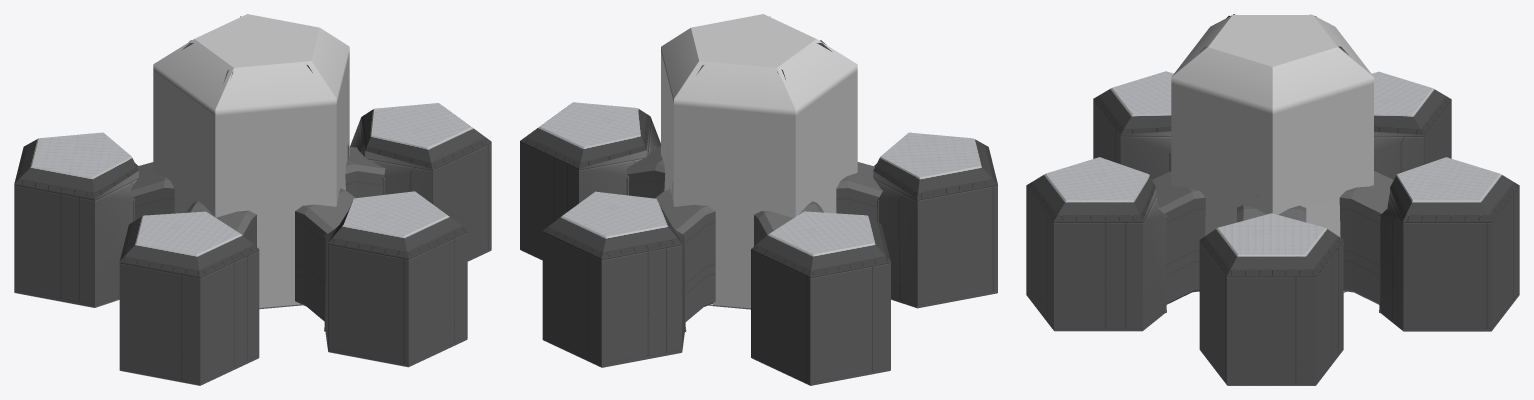
File: MainRoomRevamp.fbx
The picture shows the model from 3 angles, left to right: view 1: azimuth 30°, elevation 25°; view 2: azimuth 150°, elevation 25°; view 3: azimuth 270°, elevation 25°; orthographic projection.
Visible parts, largest first — view 1: MainRoomRevamp; view 2: MainRoomRevamp; view 3: MainRoomRevamp.
Part boxes in pixels (x1,y1,x2,y2): MainRoomRevamp: (14,14,491,385); MainRoomRevamp: (520,14,997,385); MainRoomRevamp: (1026,14,1519,385).
Bounding box in the file's own units: 18.49 × 10.7 × 19.42.
